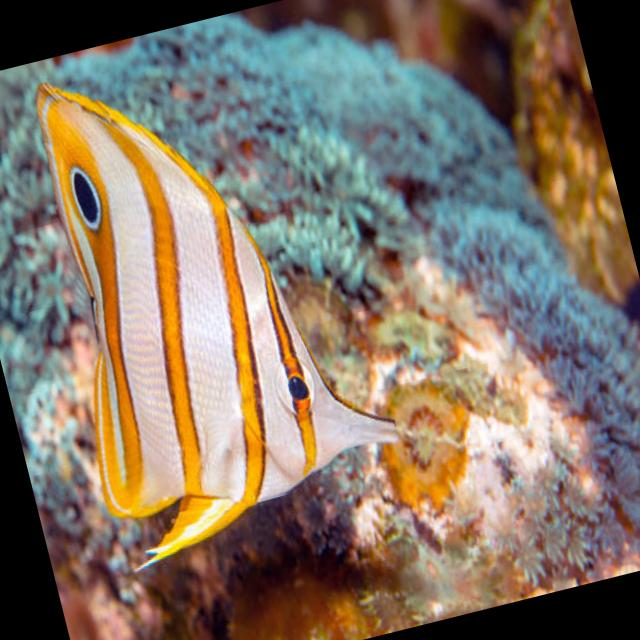ButterflyFish: (2, 24, 412, 570)
